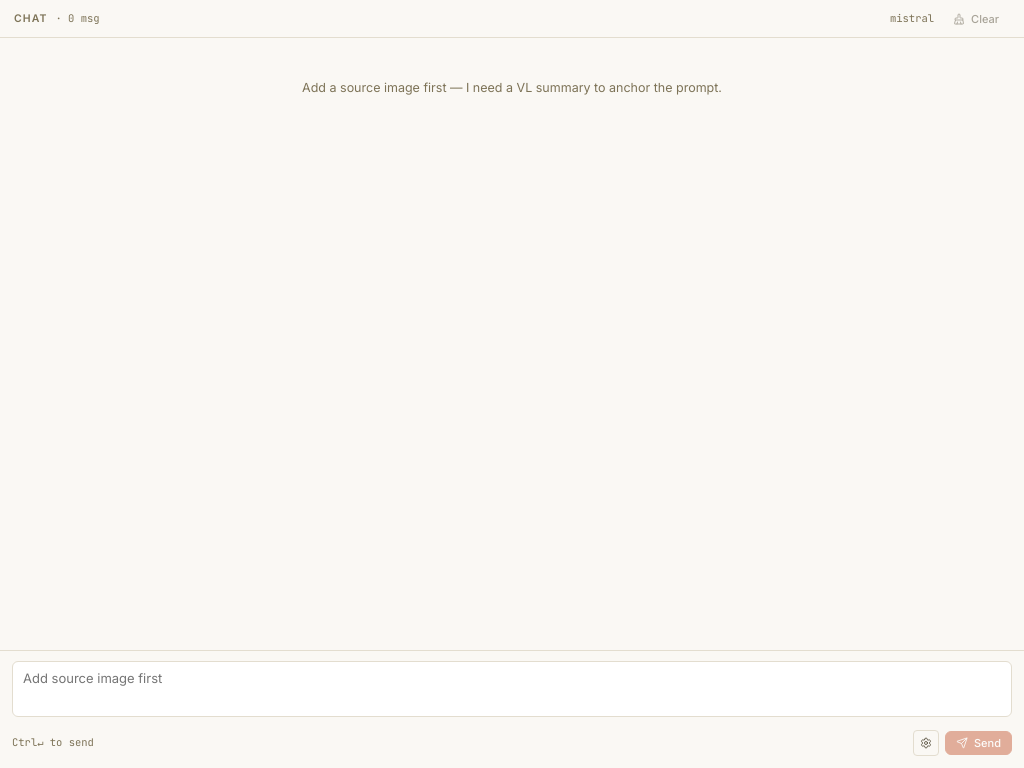
ChatPane › streams assistant deltas and refetches history on done
Type "hi" into the text box at (512, 689), box x1=12 y1=661 x2=1012 y2=717
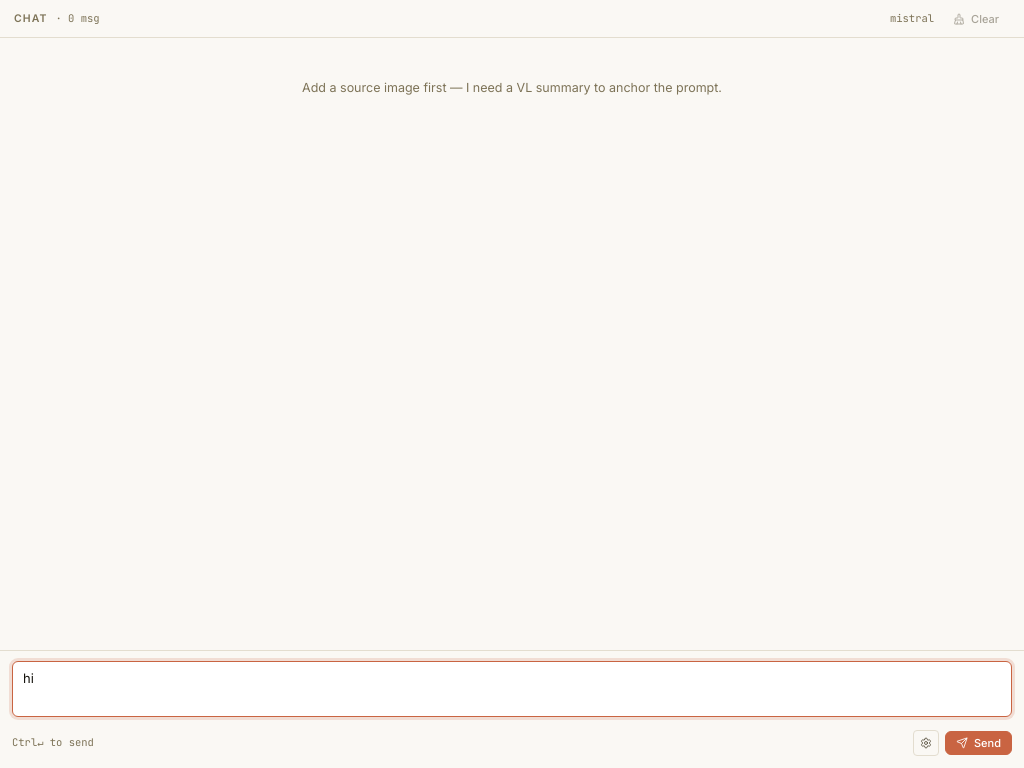
Click the button "Send" at (978, 743), box x1=945 y1=731 x2=1012 y2=755
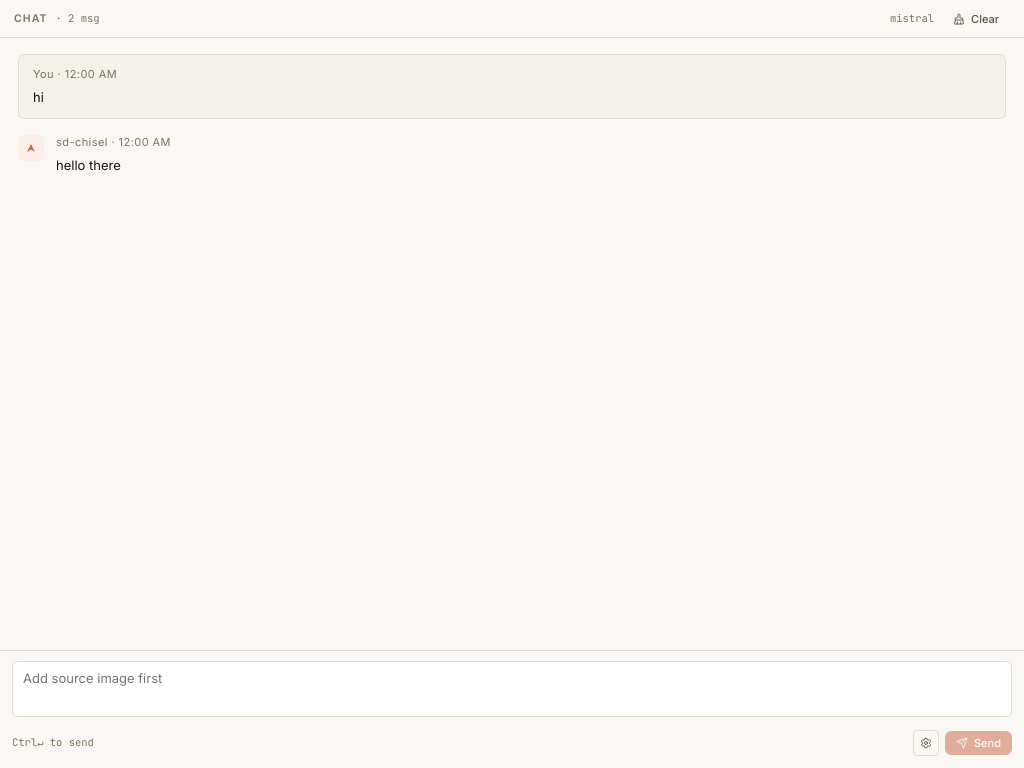
Result: the text "hi" is shown at x1=33 y1=89 x2=44 y2=105
Result: the text "hello there" is shown at x1=56 y1=157 x2=121 y2=173
